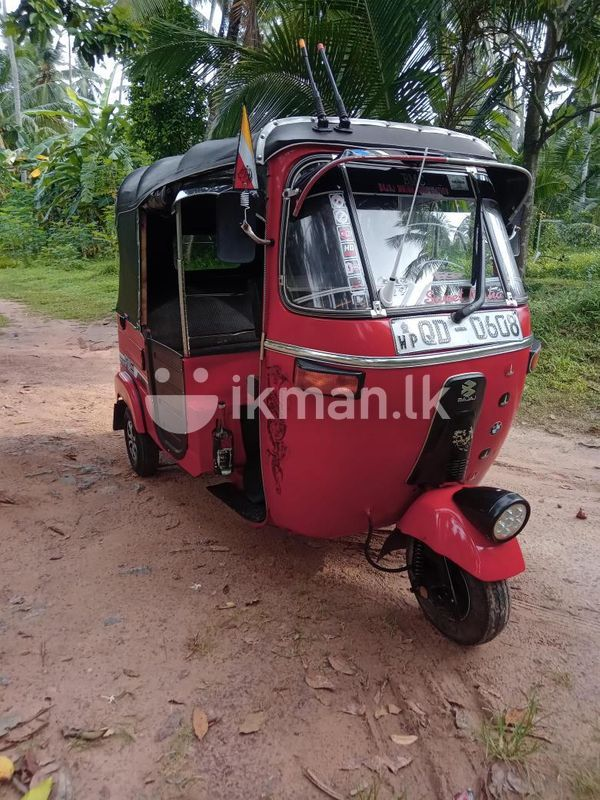threewheel: (116, 118, 544, 646)
